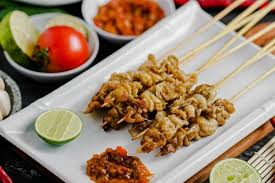sate: (83, 51, 249, 153)
